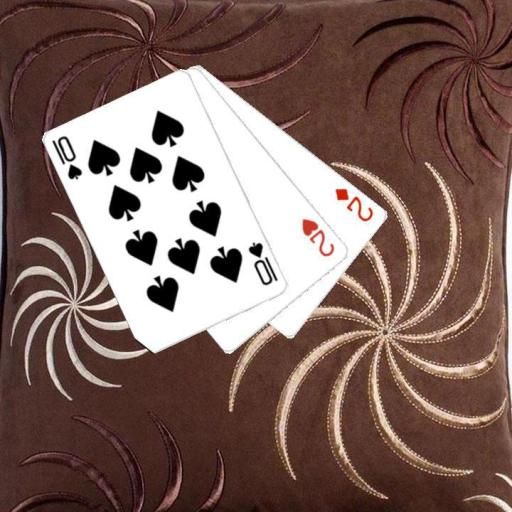10S: (49, 133, 85, 182), (246, 239, 281, 287)
2D: (332, 184, 376, 223)
2H: (299, 215, 337, 259)
